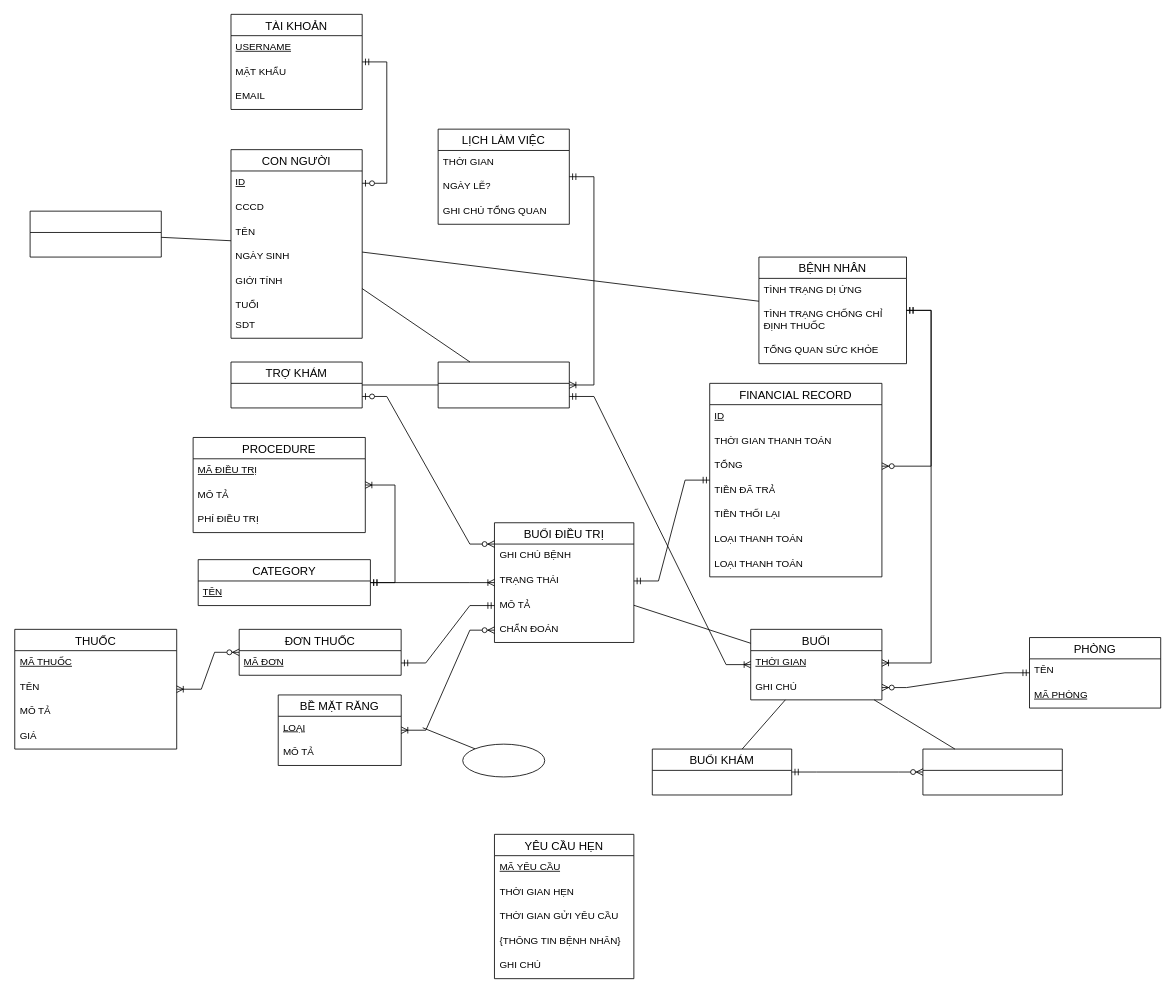
This 1175x995 diagram has some shape labels left out. The shapes that lost their labels are listed below. From the top down, each one's centre as x and y in pixels, then its label:
point (95, 233): NHÂN VIÊN
point (503, 384): BÁC SĨ
point (503, 760): STT
point (992, 771): BUỔI TÁI KHÁM
